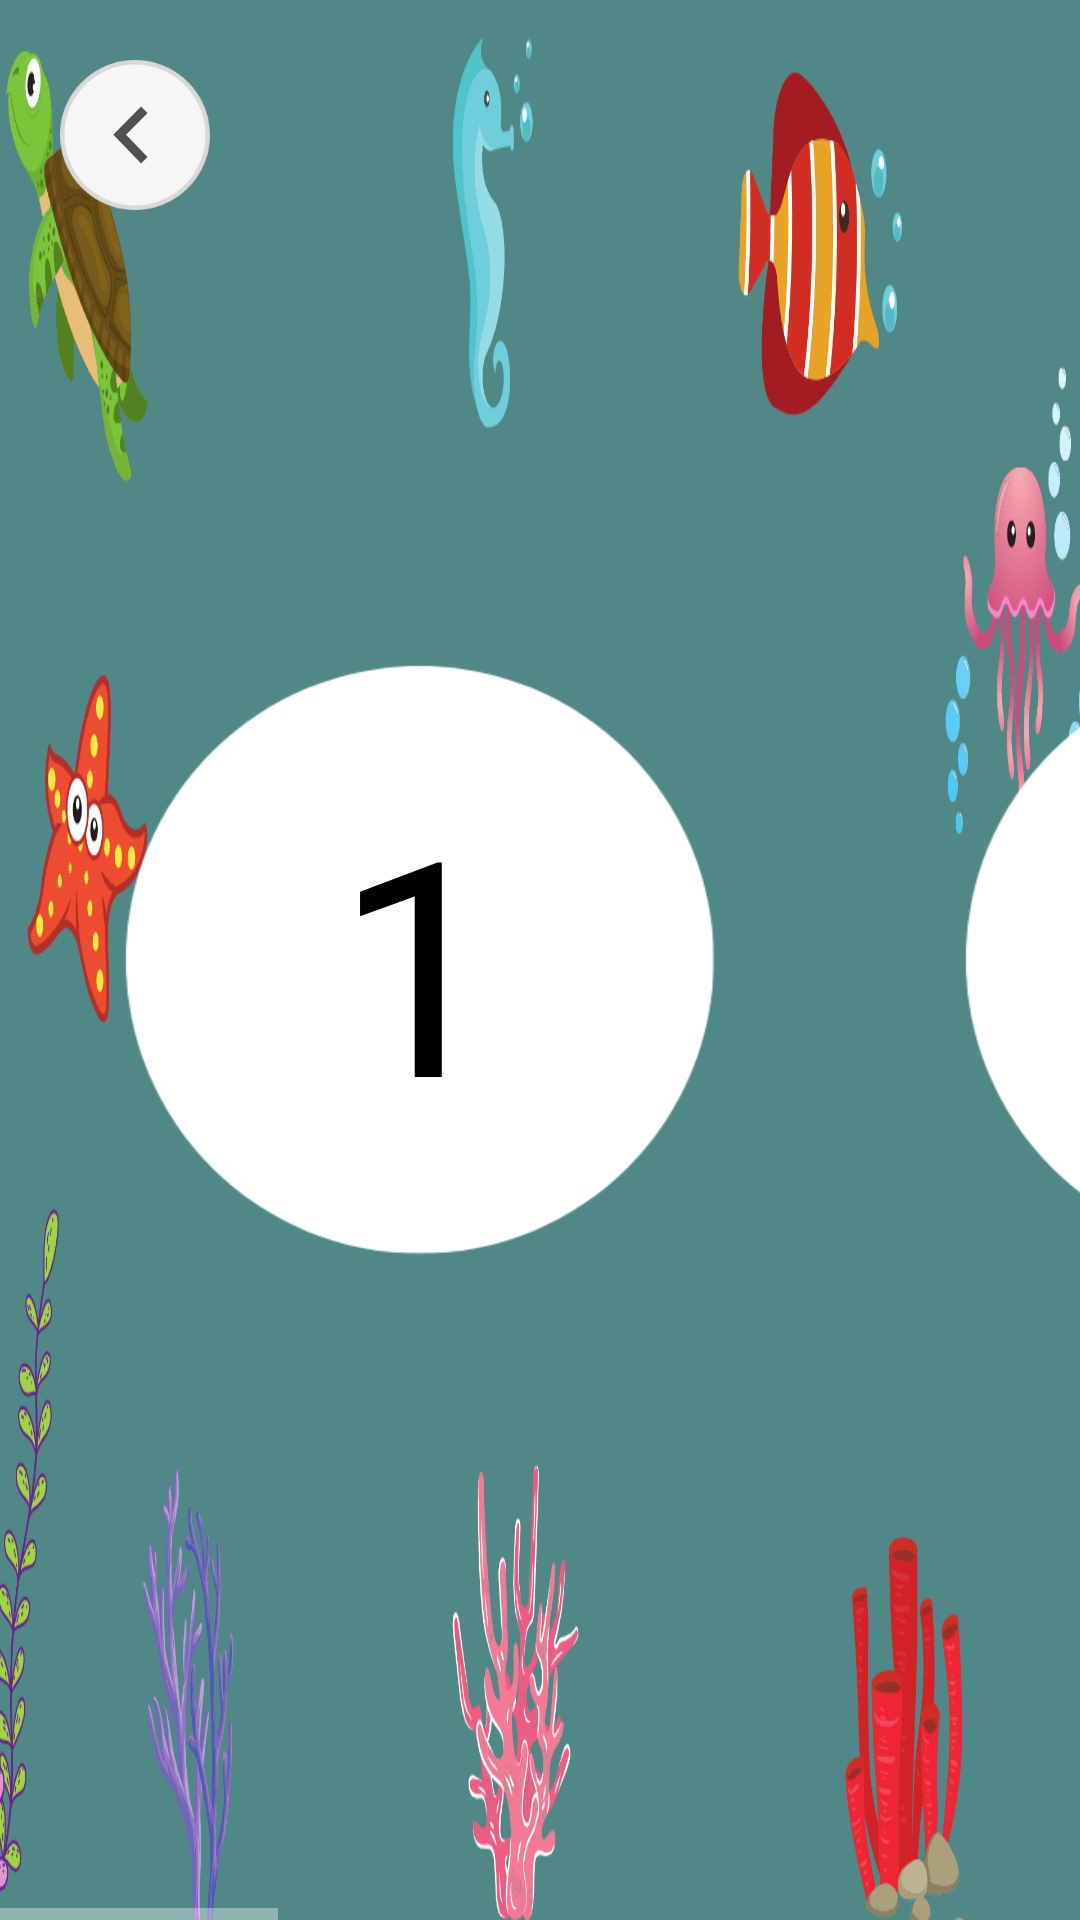

Where icons sit on this 1080 × 1920 app screen, as (x1, y1, x2, y2):
back: (60, 60, 210, 210)
